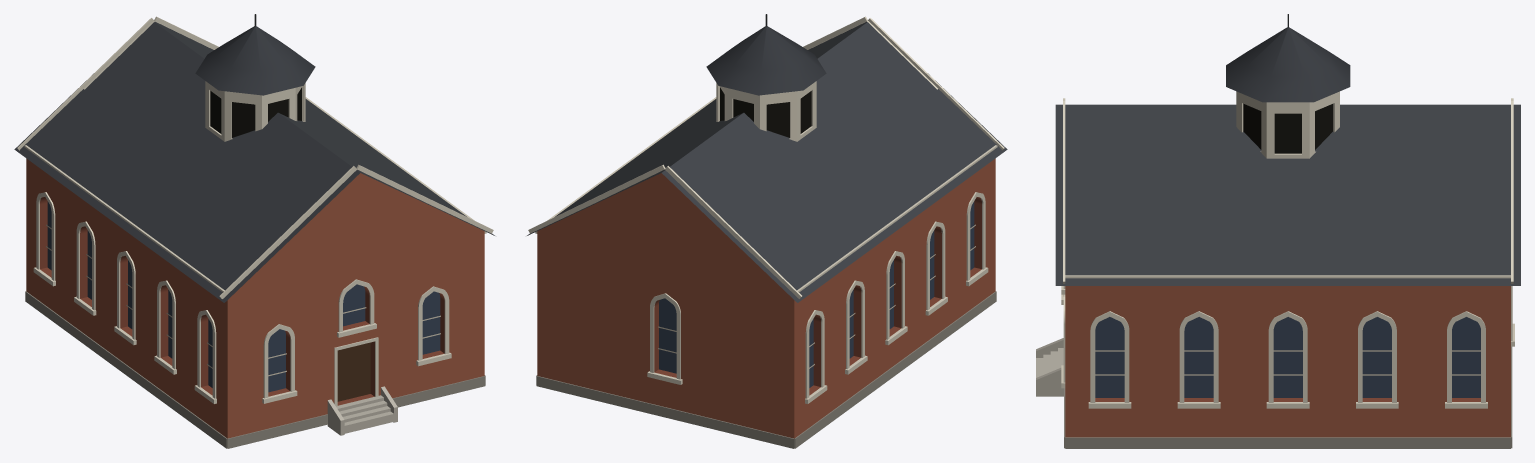
Rendered from ch-union-ame-1913.glb.
The picture shows the model from 3 angles, left to right: view 1: azimuth 30°, elevation 25°; view 2: azimuth 150°, elevation 25°; view 3: azimuth 270°, elevation 25°; orthographic projection. The views are drawn at different scales.
Visible parts, largest first — view 1: ch_brick, ch_roof, ch_trim, ch_roof2, ch_brick2, ch_stain, ch_base, ch_conc, ch_door, ch_shadow; view 2: ch_brick, ch_roof, ch_trim, ch_roof2, ch_base, ch_brick2, ch_stain, ch_shadow; view 3: ch_roof, ch_brick, ch_trim, ch_stain, ch_roof2, ch_base, ch_shadow, ch_conc, ch_brick2, ch_trc.
Boxes of the visible parts, x1,y1,x2,y2 form: ch_brick: [26, 158, 484, 438]; ch_roof: [14, 21, 494, 302]; ch_trim: [17, 16, 493, 406]; ch_roof2: [195, 26, 315, 95]; ch_brick2: [40, 197, 444, 405]; ch_stain: [47, 201, 440, 392]; ch_base: [25, 291, 485, 448]; ch_conc: [327, 386, 397, 435]; ch_door: [337, 342, 370, 401]; ch_shadow: [210, 87, 301, 137]; ch_brick: [537, 158, 995, 438]; ch_roof: [527, 21, 1007, 302]; ch_trim: [528, 16, 1004, 403]; ch_roof2: [706, 26, 826, 95]; ch_base: [536, 291, 996, 448]; ch_brick2: [654, 197, 981, 395]; ch_stain: [659, 201, 974, 387]; ch_shadow: [720, 87, 811, 137]; ch_roof: [1055, 104, 1520, 285]; ch_brick: [1065, 286, 1510, 437]; ch_trim: [1061, 91, 1514, 408]; ch_stain: [1095, 317, 1480, 397]; ch_roof2: [1226, 27, 1350, 102]; ch_base: [1064, 346, 1512, 448]; ch_shadow: [1243, 103, 1332, 153]; ch_conc: [1036, 338, 1063, 396]; ch_brick2: [1095, 398, 1480, 401]; ch_trc: [1095, 350, 1480, 375].
Size of the model in its own units: 14.35 by 16.62 by 19.9.
